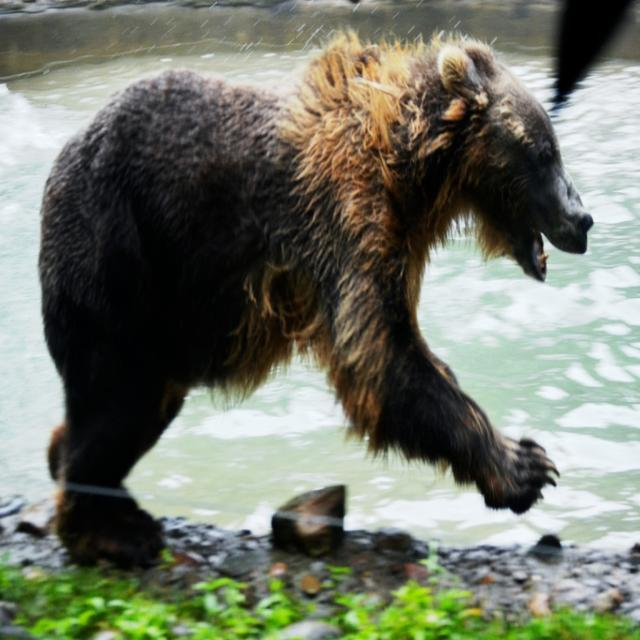Cheetahs: (35, 27, 592, 578)
